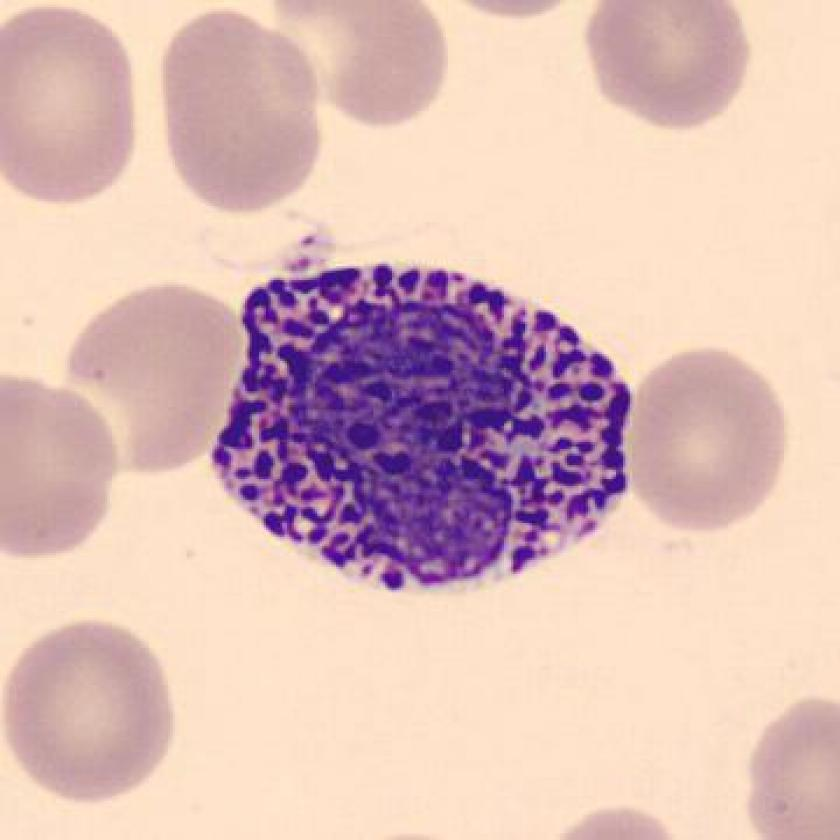basophil: (209, 256, 638, 601)
